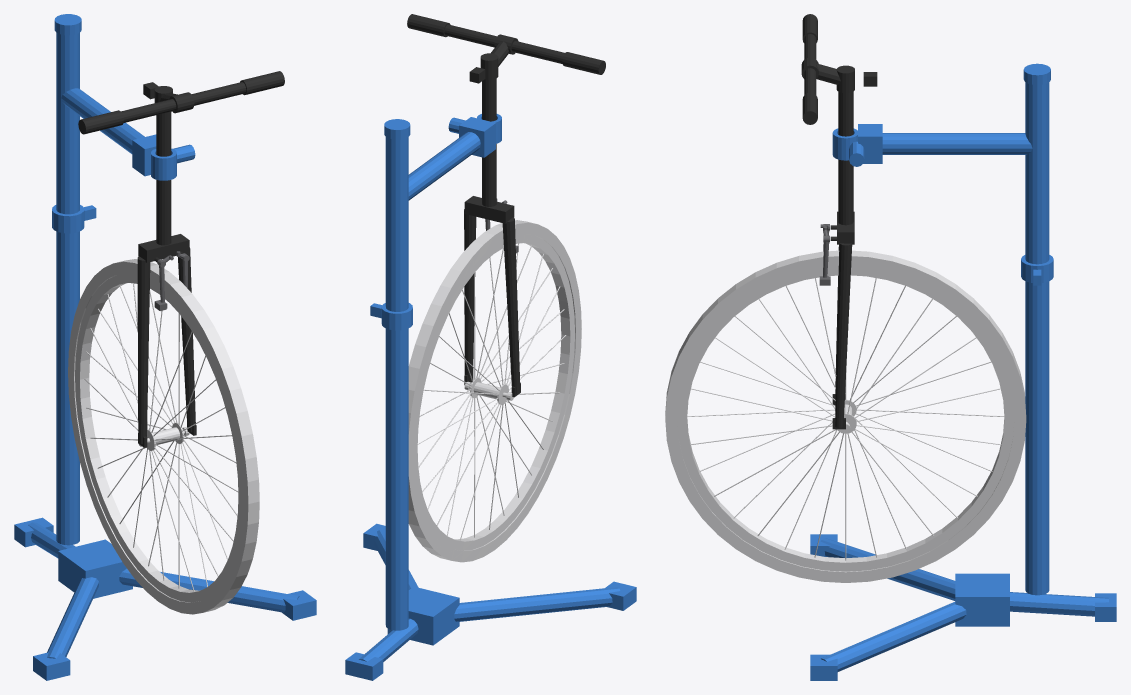
3 renders of one model, left to right at view 1: azimuth 30°, elevation 25°; view 2: azimuth 150°, elevation 25°; view 3: azimuth 270°, elevation 25°, orthographic. The views are drawn at different scales.
Visible parts, largest first — view 1: repair_stand, bicycle_wheel, fork_assembly; view 2: repair_stand, bicycle_wheel, fork_assembly; view 3: bicycle_wheel, repair_stand, fork_assembly.
Boxes of the visible parts, x1,y1,x2,y2 form: repair_stand: (14,14,316,680); bicycle_wheel: (68,259,259,614); fork_assembly: (78,71,284,447); repair_stand: (345,114,636,680); bicycle_wheel: (408,220,581,562); fork_assembly: (407,14,605,397); bicycle_wheel: (665,250,1026,582); repair_stand: (810,63,1116,680); fork_assembly: (801,14,877,429).
Size of the model in its own units: 0.57 by 1.12 by 0.825.
